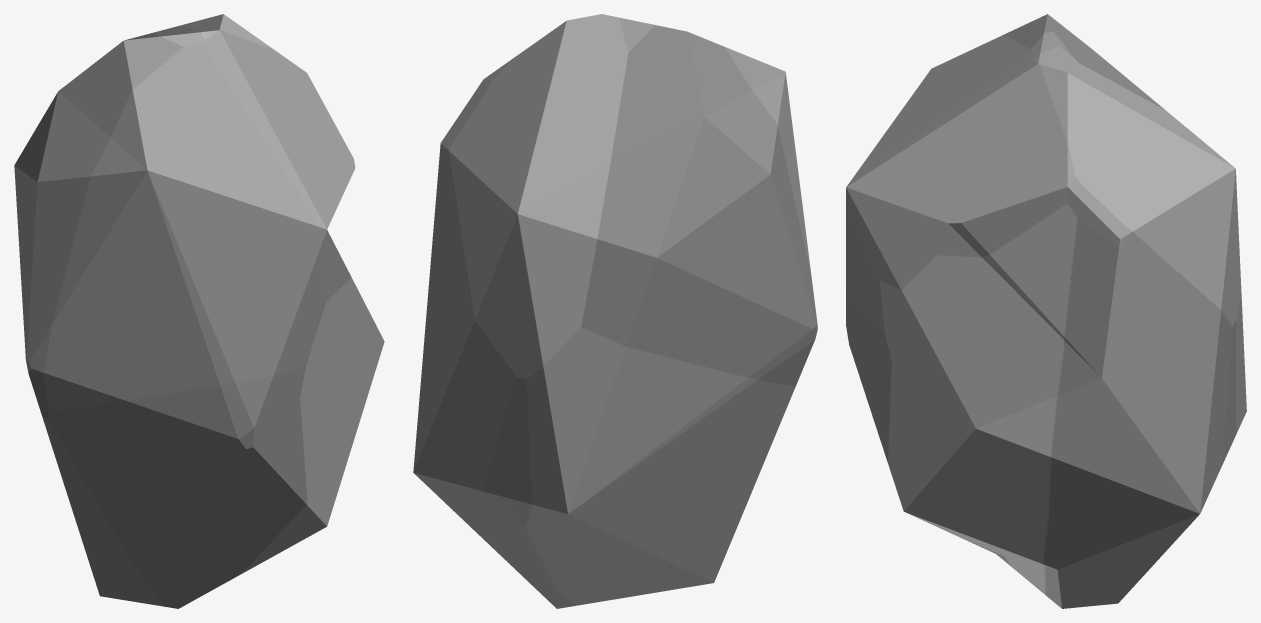
Rendered from rock.fbx.
3 views of the same model, side by side, from view 1: azimuth 30°, elevation 25°; view 2: azimuth 150°, elevation 25°; view 3: azimuth 270°, elevation 25° (orthographic). The views are drawn at different scales.
Parts seen in each view (by area): view 1: Rock; view 2: Rock; view 3: Rock.
Boxes of the visible parts, x1=… form: Rock: x1=14, y1=14, x2=384, y2=608; Rock: x1=413, y1=14, x2=817, y2=608; Rock: x1=846, y1=14, x2=1246, y2=608.
Size of the model in its own units: 142 by 231 by 154.
1 material, 1 textured.
